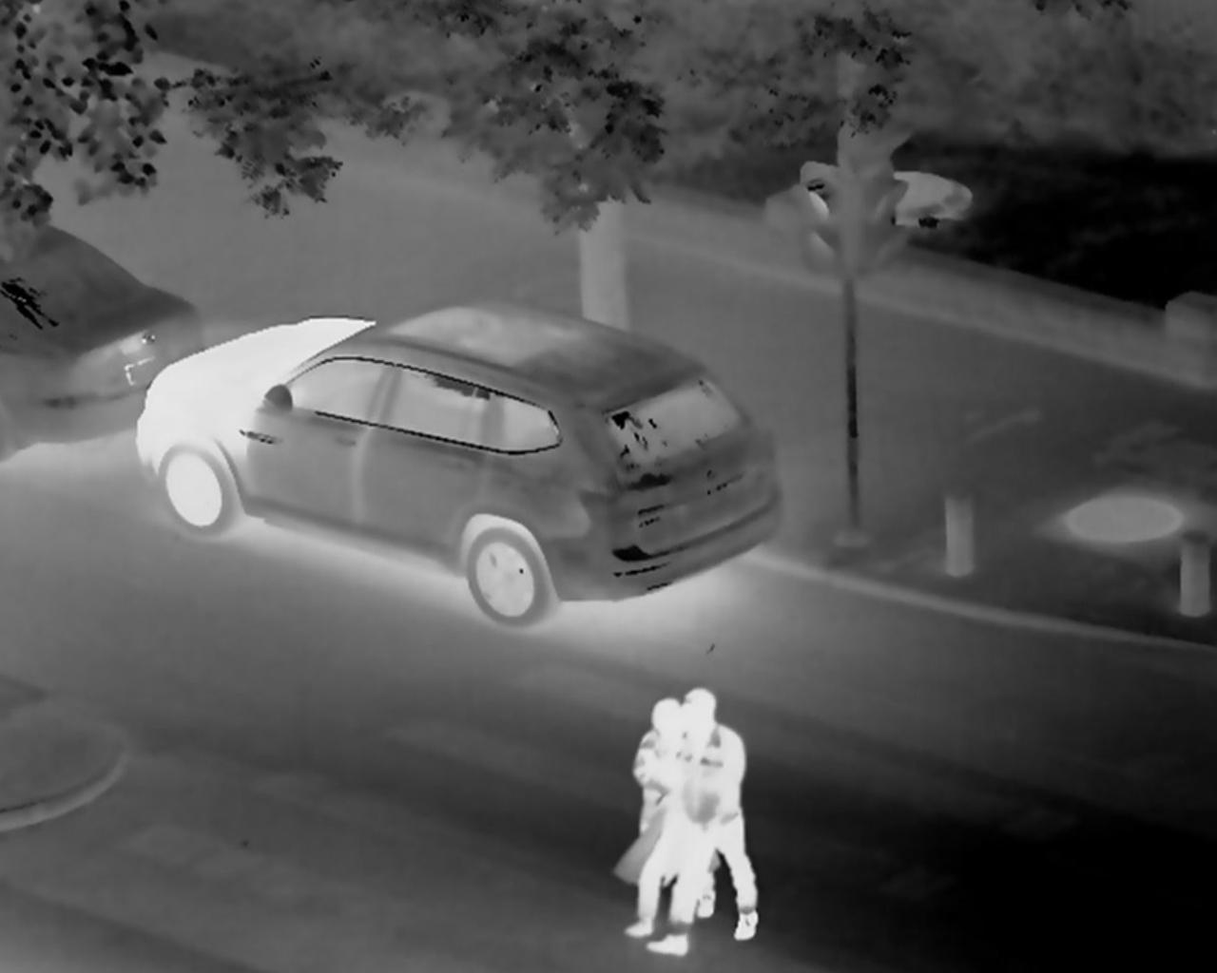person: (614, 672, 778, 967)
